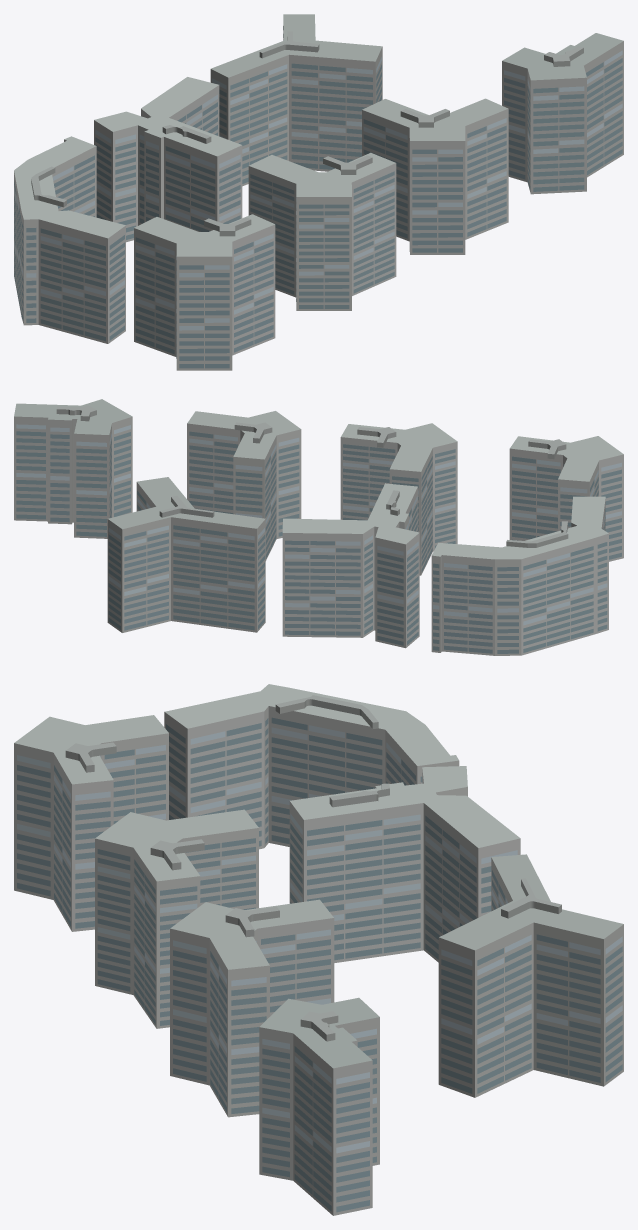
The model's file is apt-a13821007.glb.
The picture shows the model from 3 angles, top to bottom: view 1: azimuth 30°, elevation 25°; view 2: azimuth 150°, elevation 25°; view 3: azimuth 270°, elevation 25°; orthographic projection. The views are drawn at different scales.
Parts seen in each view (by area): view 1: apt-a13821007; view 2: apt-a13821007; view 3: apt-a13821007.
Boxes of the visible parts, x1,y1,x2,y2 form: apt-a13821007: (14, 14, 623, 370); apt-a13821007: (14, 399, 623, 655); apt-a13821007: (14, 684, 623, 1215).
Bounding box in the file's own units: 230 × 42 × 150.
